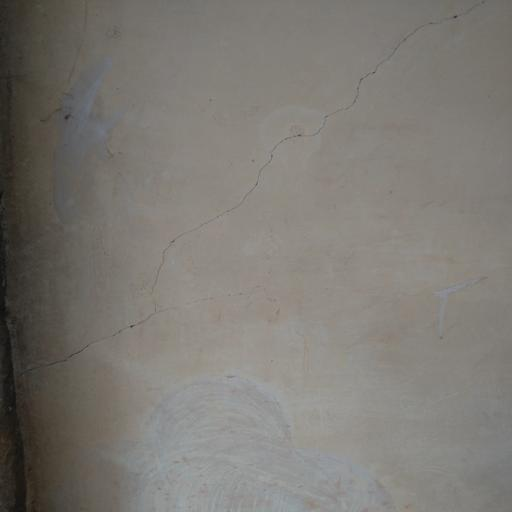minor_crack: (9, 0, 512, 412)
